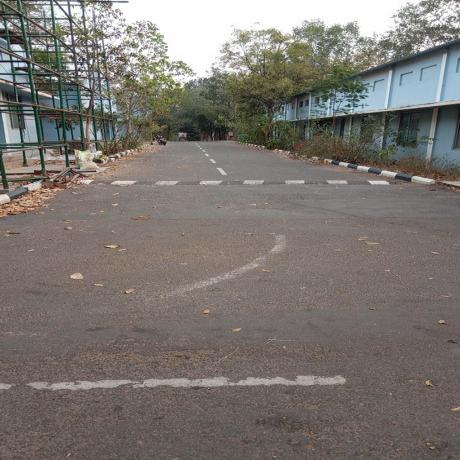Speed Bump: (62, 176, 416, 189)
